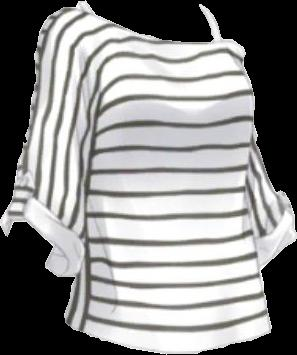Bodice: (52, 1, 271, 353)
Neckline: (84, 1, 213, 43)
Sleeve: (0, 11, 89, 276)
Sleeveline: (50, 13, 93, 113)
Waistline: (62, 316, 273, 354)
